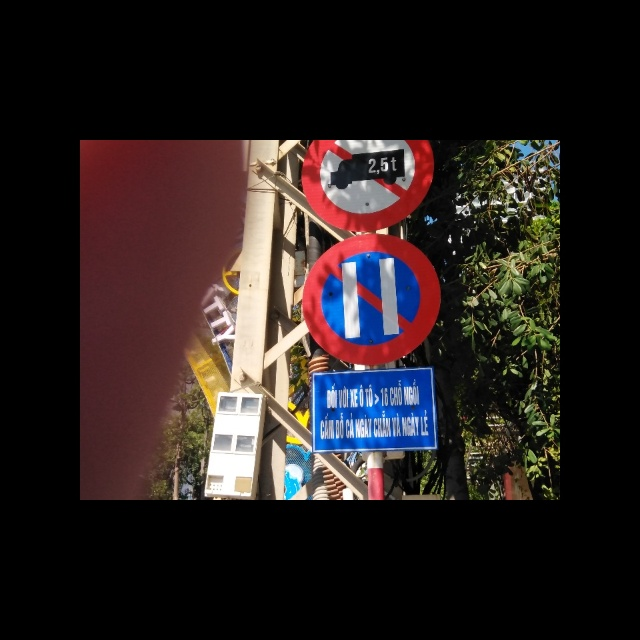Cấm đỗ xe ngày chẵn: (303, 234, 449, 366)
